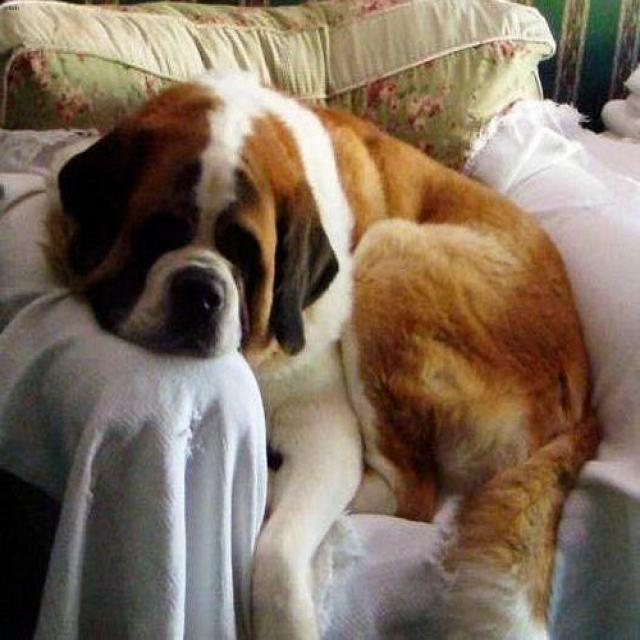dog-saint_bernard: (32, 64, 609, 637)
